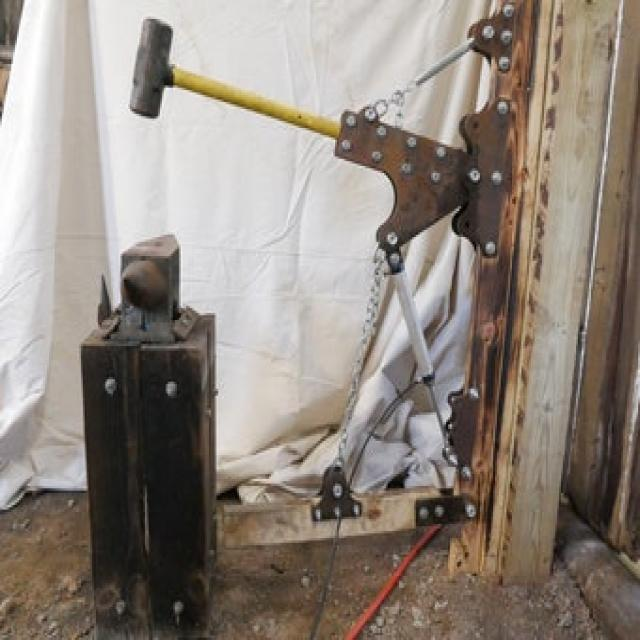hammer: (115, 5, 342, 152)
